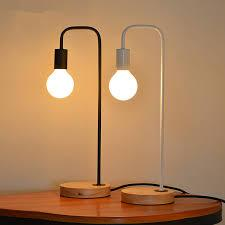Lamp: (39, 21, 113, 204), (107, 23, 177, 208)
